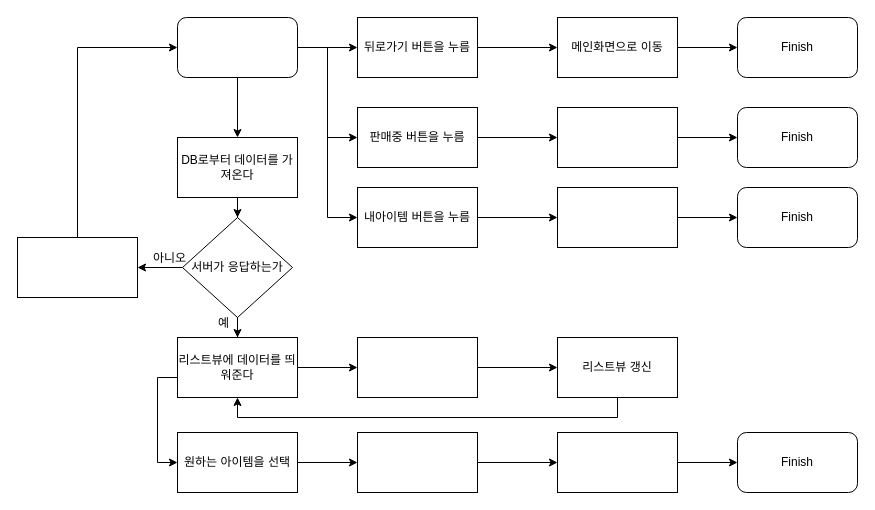
Image size: 875x510. Some labels were removed from this diagram. The centre of each missing label's shape, as x and y in pixels:
"start" goes at (237,47).
"검색창에 검색" goes at (417,367).
"구매하기 버튼 터치" goes at (417,462).
"구매하기 화면으로 이동" goes at (617,462).
"내아이템 화면으로 이동" goes at (617,217).
"서버가 응답하지 않는다는 메시지를 띄워준다" goes at (77,267).
"판매중인 아이템 화면으로 이동" goes at (617,137).
